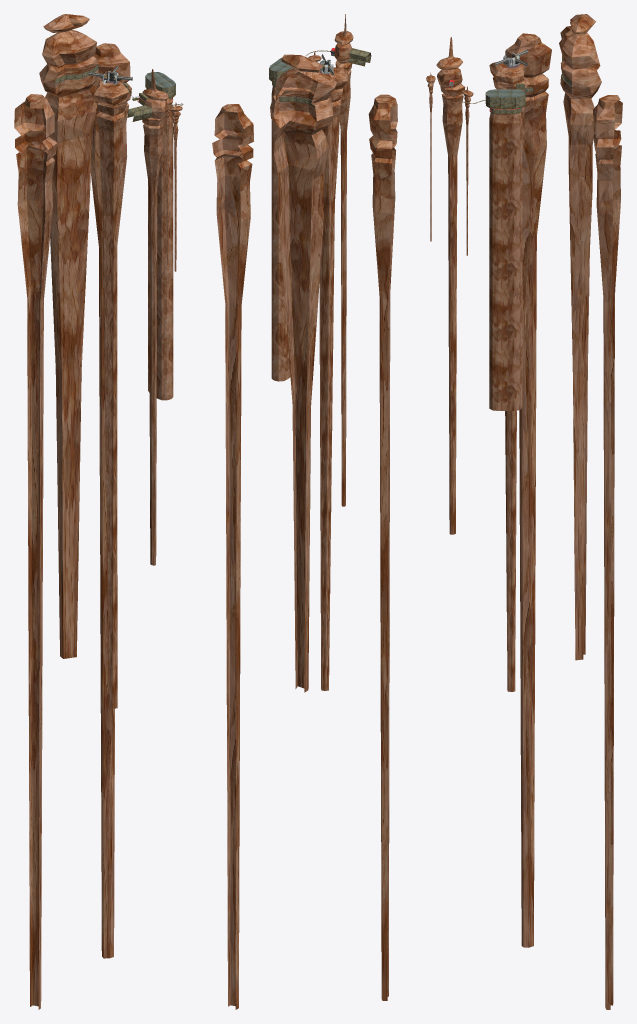
File: STG08_ON_01.obj
3 renders of one model, left to right at view 1: azimuth 30°, elevation 25°; view 2: azimuth 150°, elevation 25°; view 3: azimuth 270°, elevation 25°, orthographic.
Parts seen in each view (by area): view 1: Object_2; view 2: Object_2; view 3: Object_2.
Boxes of the visible parts, left/top/right/bottom form: Object_2: left=14, top=14, right=183, bottom=1009; Object_2: left=212, top=14, right=397, bottom=1009; Object_2: left=426, top=14, right=622, bottom=1009.
Size of the model in its own units: 7963 by 50256 by 9296.
39 materials, 39 textured.
